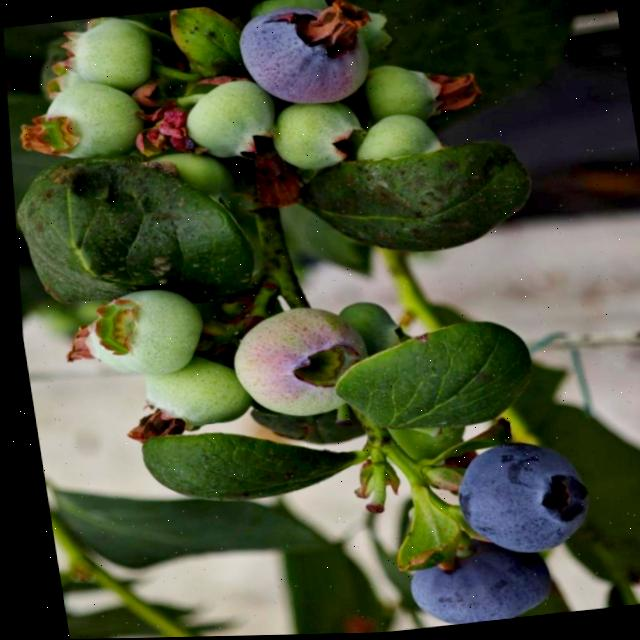RipeBlueBerry: (439, 432, 586, 565), (393, 543, 550, 630)
Semi-RipeBlueBerry: (219, 296, 375, 430), (225, 0, 377, 114)
UnripeBlueBerry: (82, 280, 205, 387), (25, 72, 147, 169), (167, 72, 278, 175), (53, 12, 158, 101)
